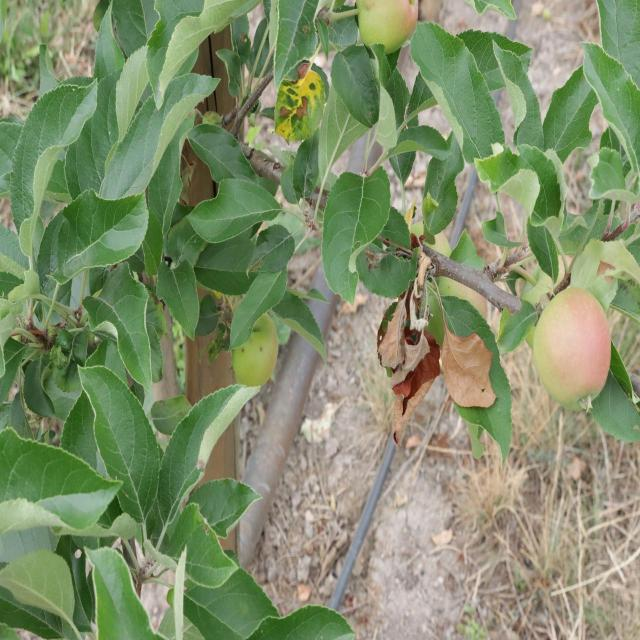-FireBlight-: (382, 239, 504, 423)
